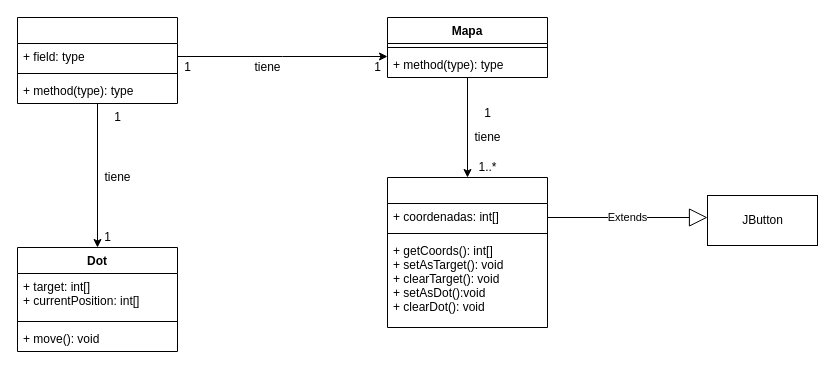
Some shapes in this 835 by 372 pixel diagram are drawn without their labels. The shapes that lost their labels are listed below. From the top down, each one's box as (x1, y1, x2, y2) in pixels, then its label:
(16, 16, 178, 104): GUI
(386, 176, 548, 328): Casilla
